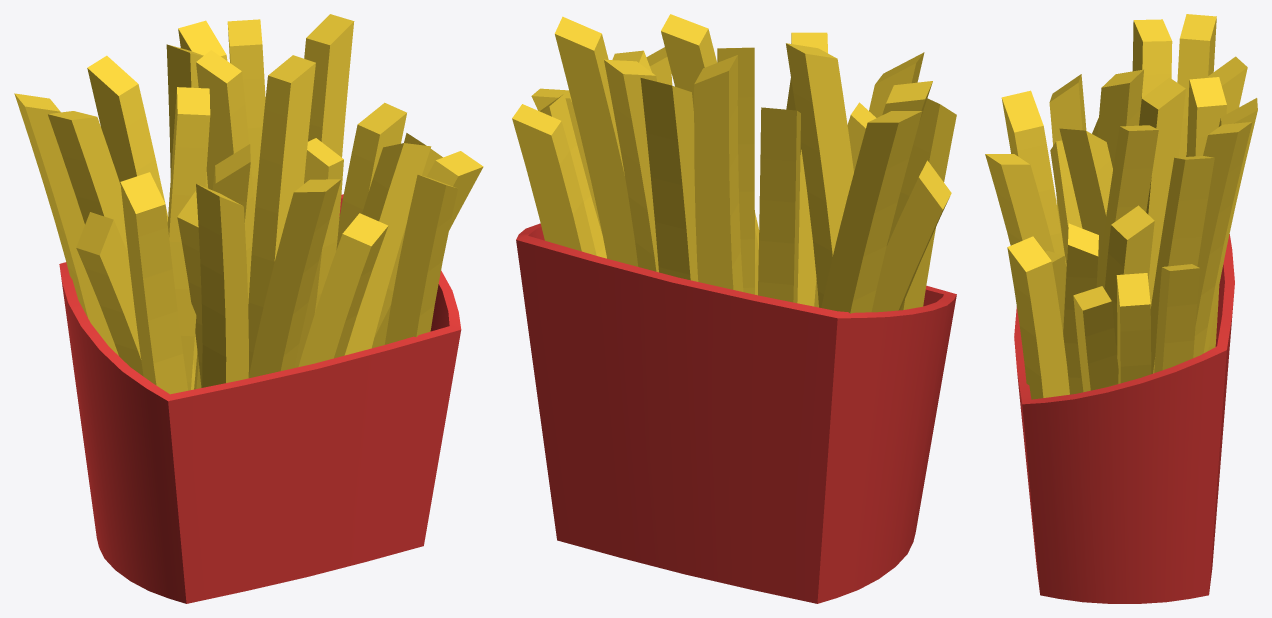
The model's file is french_fries.fbx.
3 renders of one model, left to right at view 1: azimuth 30°, elevation 25°; view 2: azimuth 150°, elevation 25°; view 3: azimuth 270°, elevation 25°, orthographic. The views are drawn at different scales.
Parts seen in each view (by area): view 1: Cube.352; view 2: Cube.352; view 3: Cube.352.
Boxes of the visible parts, box(x1,y1,x2,y2) form: Cube.352: box(14, 14, 483, 603); Cube.352: box(512, 14, 956, 603); Cube.352: box(985, 14, 1257, 603).
Bounding box in the file's own units: 202 × 227 × 126.
Materials: 1 (1 with a texture image).
